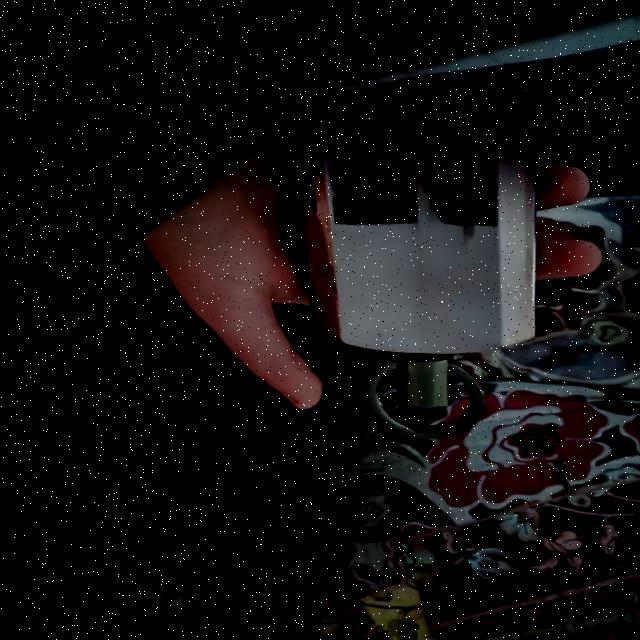Afnan: (279, 83, 559, 440)
